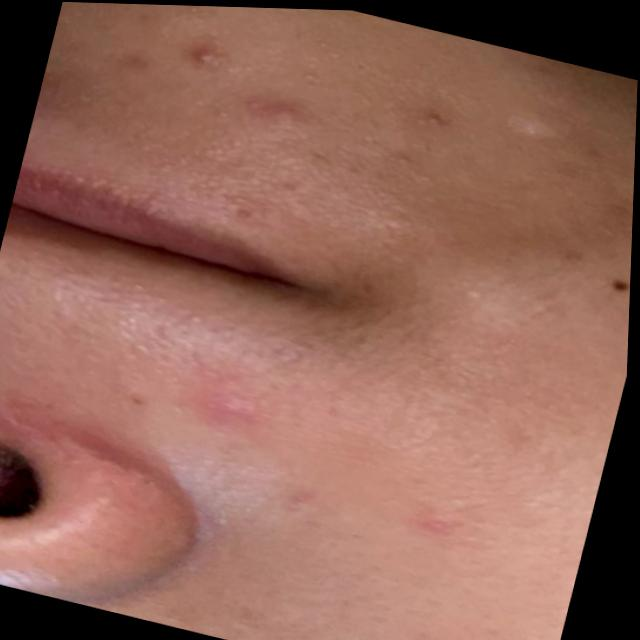papule: (228, 76, 318, 147), (189, 371, 275, 429)
pustule: (178, 40, 240, 75)
